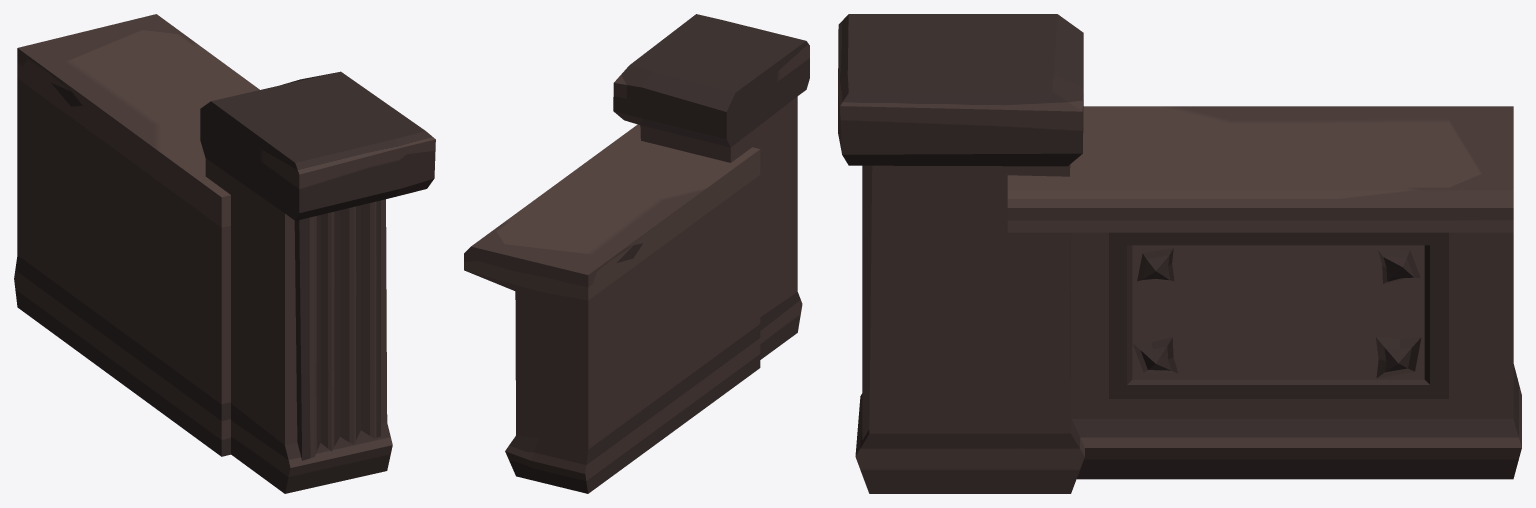
File: SM_Prop_Desk_03_End_01.fbx
3 renders of one model, left to right at view 1: azimuth 30°, elevation 25°; view 2: azimuth 150°, elevation 25°; view 3: azimuth 270°, elevation 25°, orthographic. The views are drawn at different scales.
Parts seen in each view (by area): view 1: SM_Prop_Desk_03_End_01; view 2: SM_Prop_Desk_03_End_01; view 3: SM_Prop_Desk_03_End_01.
Boxes of the visible parts, bbox=[...] form: SM_Prop_Desk_03_End_01: bbox=[14, 14, 435, 493]; SM_Prop_Desk_03_End_01: bbox=[464, 14, 809, 493]; SM_Prop_Desk_03_End_01: bbox=[838, 14, 1521, 493].
Size of the model in its own units: 58.22 by 128 by 189.
1 material, 1 textured.
